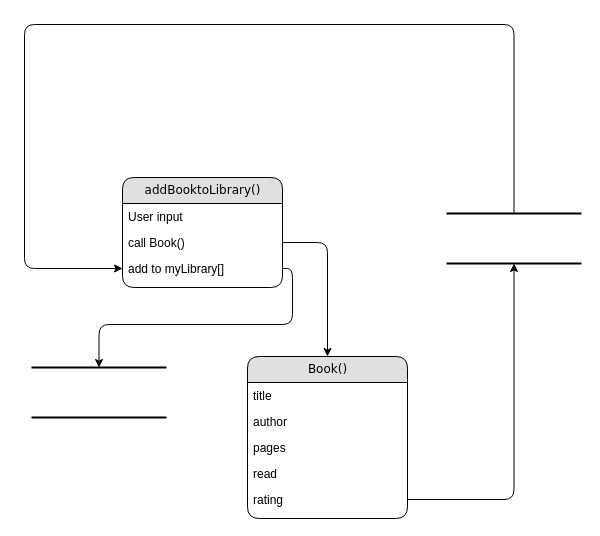
Some shapes in this 600 by 536 pixel diagram are drawn without their labels. The centre of each missing label's shape, as x and y in pixels:
"book" belongs at (x=513, y=238).
"myLibrary" belongs at (x=98, y=392).
